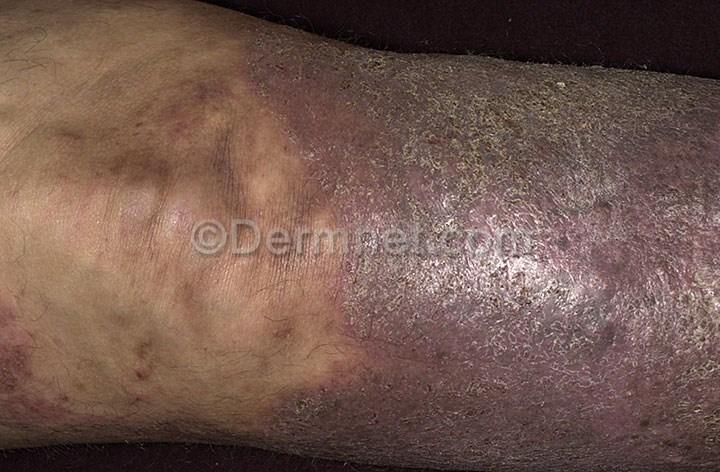Eczema: (245, 246, 575, 472), (320, 63, 720, 237), (568, 248, 720, 472), (0, 283, 189, 446), (192, 28, 330, 226), (72, 91, 187, 240)
